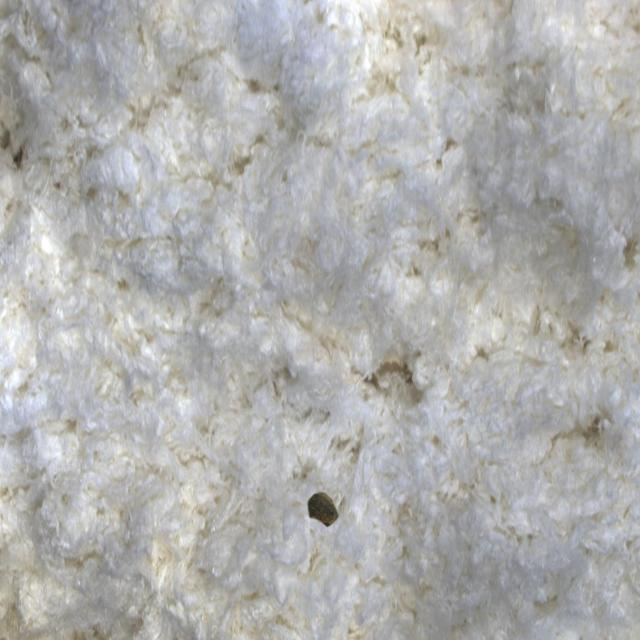dust: (299, 473, 355, 550)
